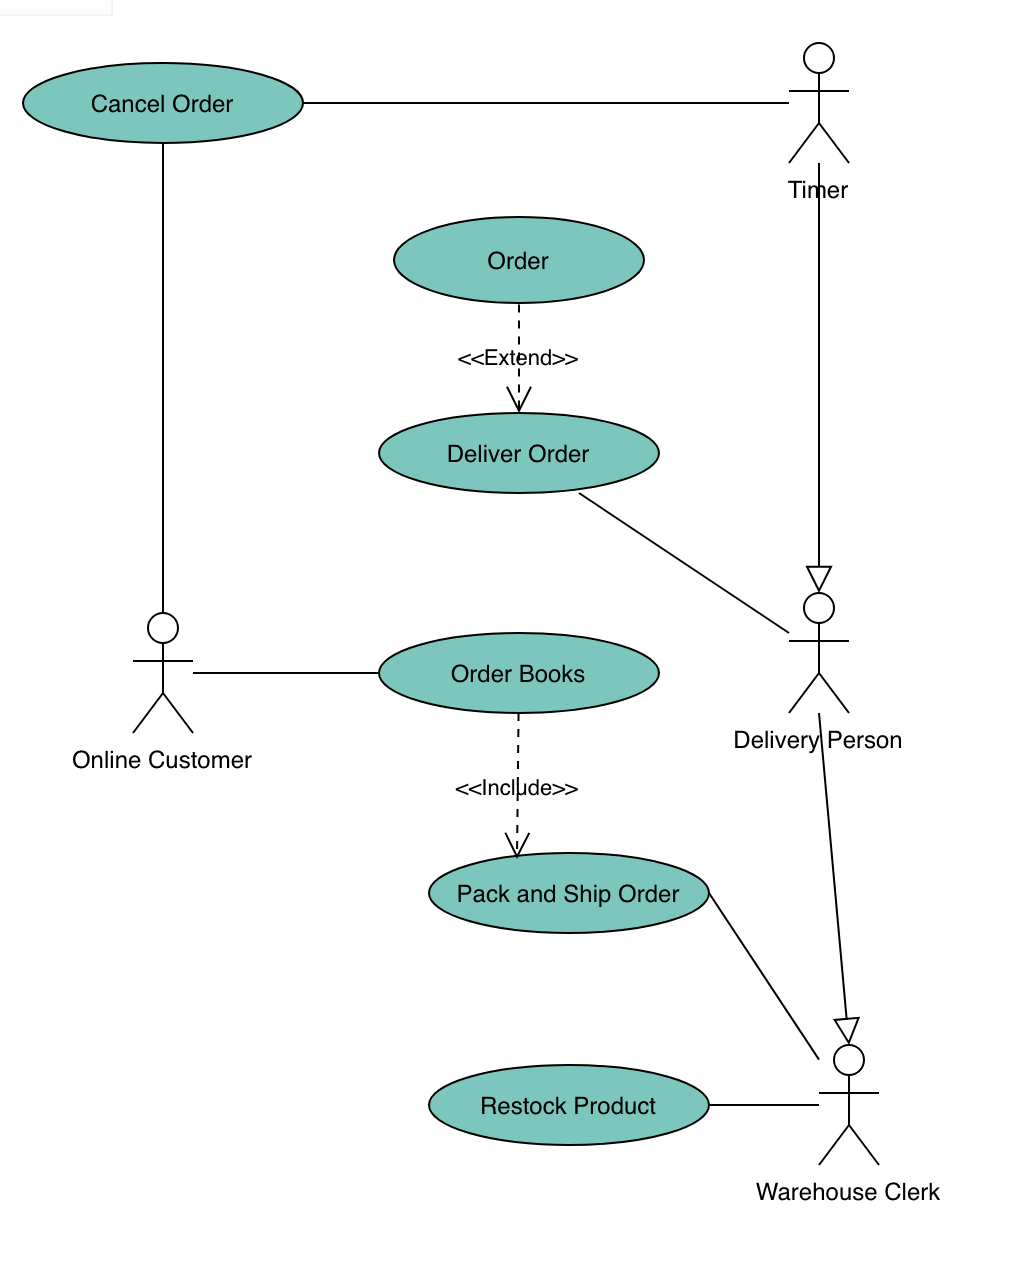actor: (819, 1042, 886, 1169), (791, 34, 850, 171), (786, 593, 850, 717), (135, 608, 193, 738)
association: (572, 490, 790, 631), (707, 891, 819, 1060), (818, 717, 861, 1043), (153, 140, 182, 611), (808, 162, 832, 591), (301, 94, 793, 114), (187, 662, 382, 685), (504, 712, 530, 855), (508, 302, 531, 411), (706, 1097, 821, 1115)
text: (746, 1171, 951, 1209), (729, 721, 916, 762), (451, 878, 685, 910), (69, 741, 261, 777), (82, 85, 233, 126), (475, 1089, 670, 1121), (446, 654, 591, 688), (445, 437, 593, 469), (458, 343, 581, 372), (452, 775, 587, 800), (480, 243, 565, 277), (786, 177, 854, 204)
use_case: (19, 59, 305, 148), (428, 1062, 712, 1150), (377, 409, 663, 496), (426, 849, 712, 936), (379, 631, 662, 715), (391, 214, 648, 305)
